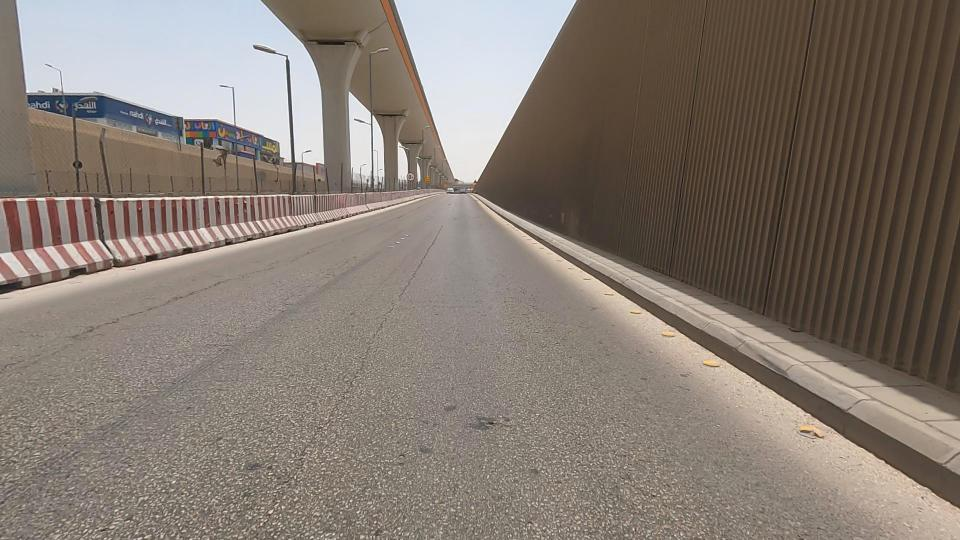CONSTRUCTION_ROAD: (5, 125, 284, 287), (154, 119, 383, 277), (291, 151, 450, 235)
